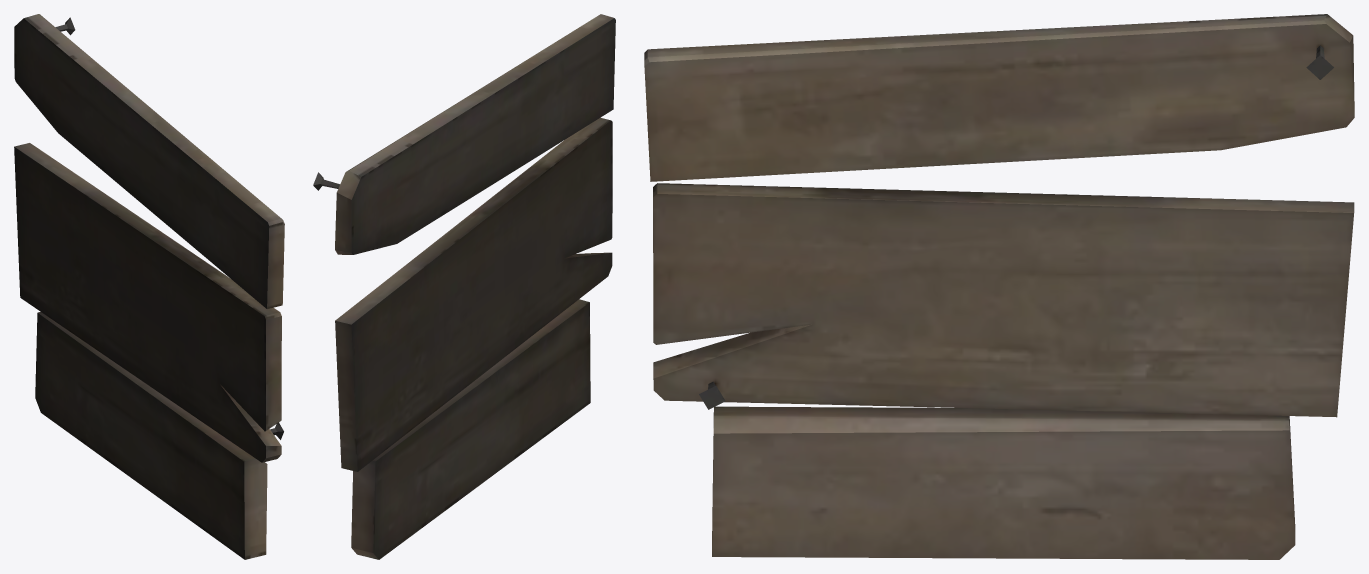
3 renders of one model, left to right at view 1: azimuth 30°, elevation 25°; view 2: azimuth 150°, elevation 25°; view 3: azimuth 270°, elevation 25°, orthographic. The views are drawn at different scales.
Visible parts, largest first — view 1: body0_model0_lod0_mesh0; view 2: body0_model0_lod0_mesh0; view 3: body0_model0_lod0_mesh0.
Part boxes in pixels (box(x1,y1,x2,y2)): body0_model0_lod0_mesh0: box(14, 14, 284, 559); body0_model0_lod0_mesh0: box(313, 14, 615, 559); body0_model0_lod0_mesh0: box(644, 14, 1354, 559).
Bounding box in the file's own units: 7.7 × 64.08 × 77.25.
Materials: 1 (1 with a texture image).
